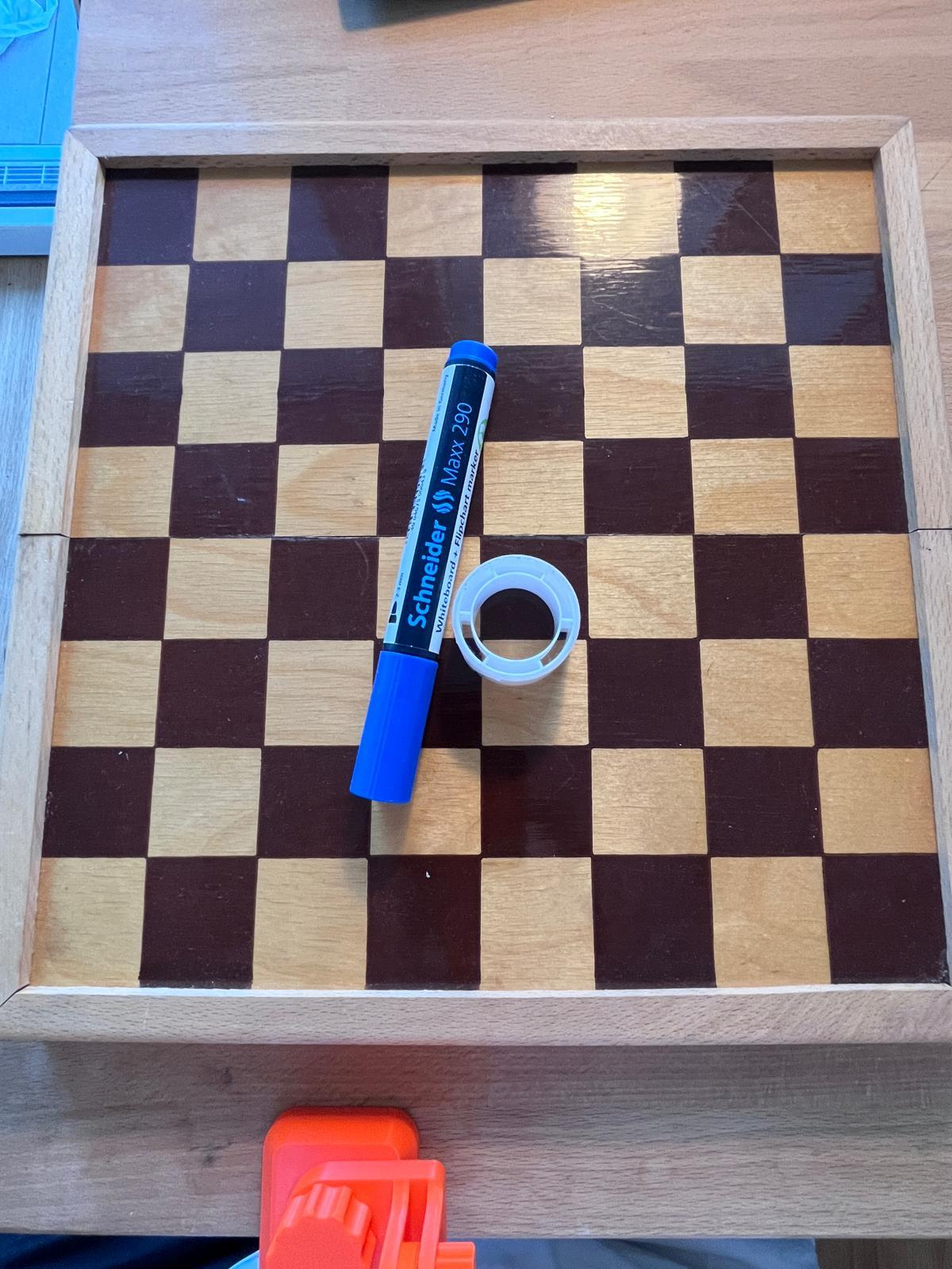marker: (343, 343, 497, 807)
tape: (452, 552, 585, 685)
